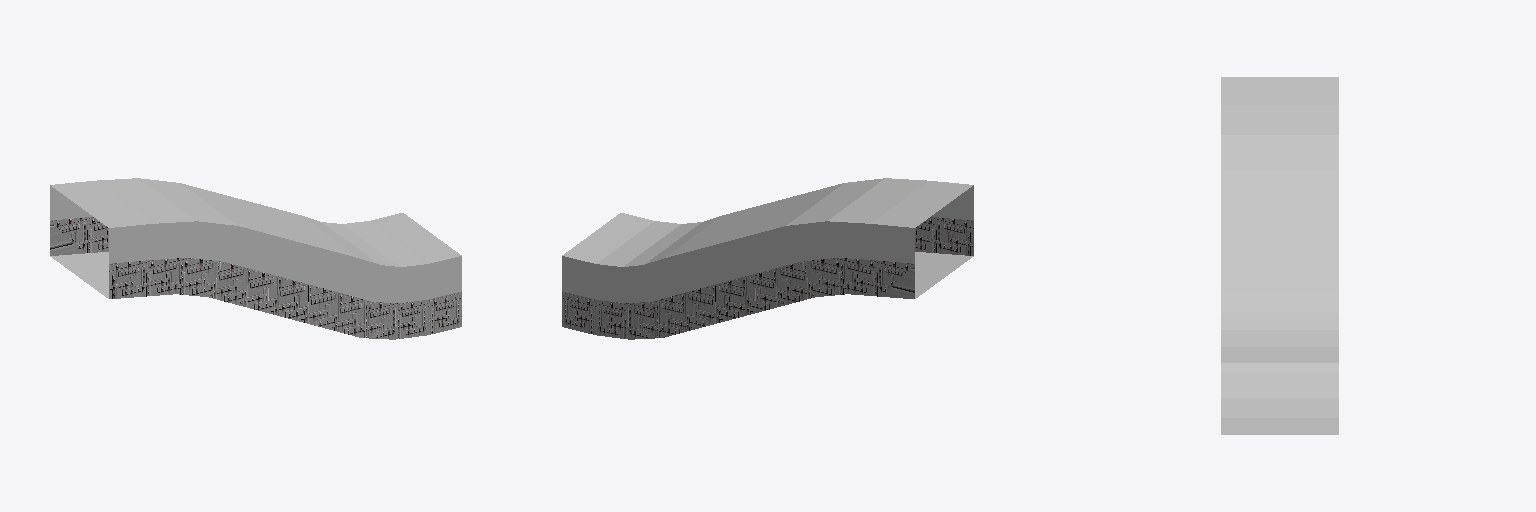
3 views of the same model, side by side, from view 1: azimuth 30°, elevation 25°; view 2: azimuth 150°, elevation 25°; view 3: azimuth 270°, elevation 25° (orthographic).
Parts seen in each view (by area): view 1: tunnel1, tunnel1_wall, tunnel1_floor; view 2: tunnel1, tunnel1_wall, tunnel1_floor; view 3: tunnel1, tunnel1_floor.
Boxes of the visible parts, x1=… form: tunnel1: x1=50, y1=178, x2=461, y2=302; tunnel1_wall: x1=50, y1=217, x2=461, y2=339; tunnel1_floor: x1=50, y1=252, x2=108, y2=298; tunnel1: x1=562, y1=178, x2=973, y2=302; tunnel1_wall: x1=562, y1=217, x2=973, y2=339; tunnel1_floor: x1=915, y1=252, x2=973, y2=298; tunnel1: x1=1221, y1=77, x2=1338, y2=362; tunnel1_floor: x1=1221, y1=363, x2=1338, y2=434.
Bounding box in the file's own units: 207 × 104 × 60.
Materials: 3 (1 with a texture image).